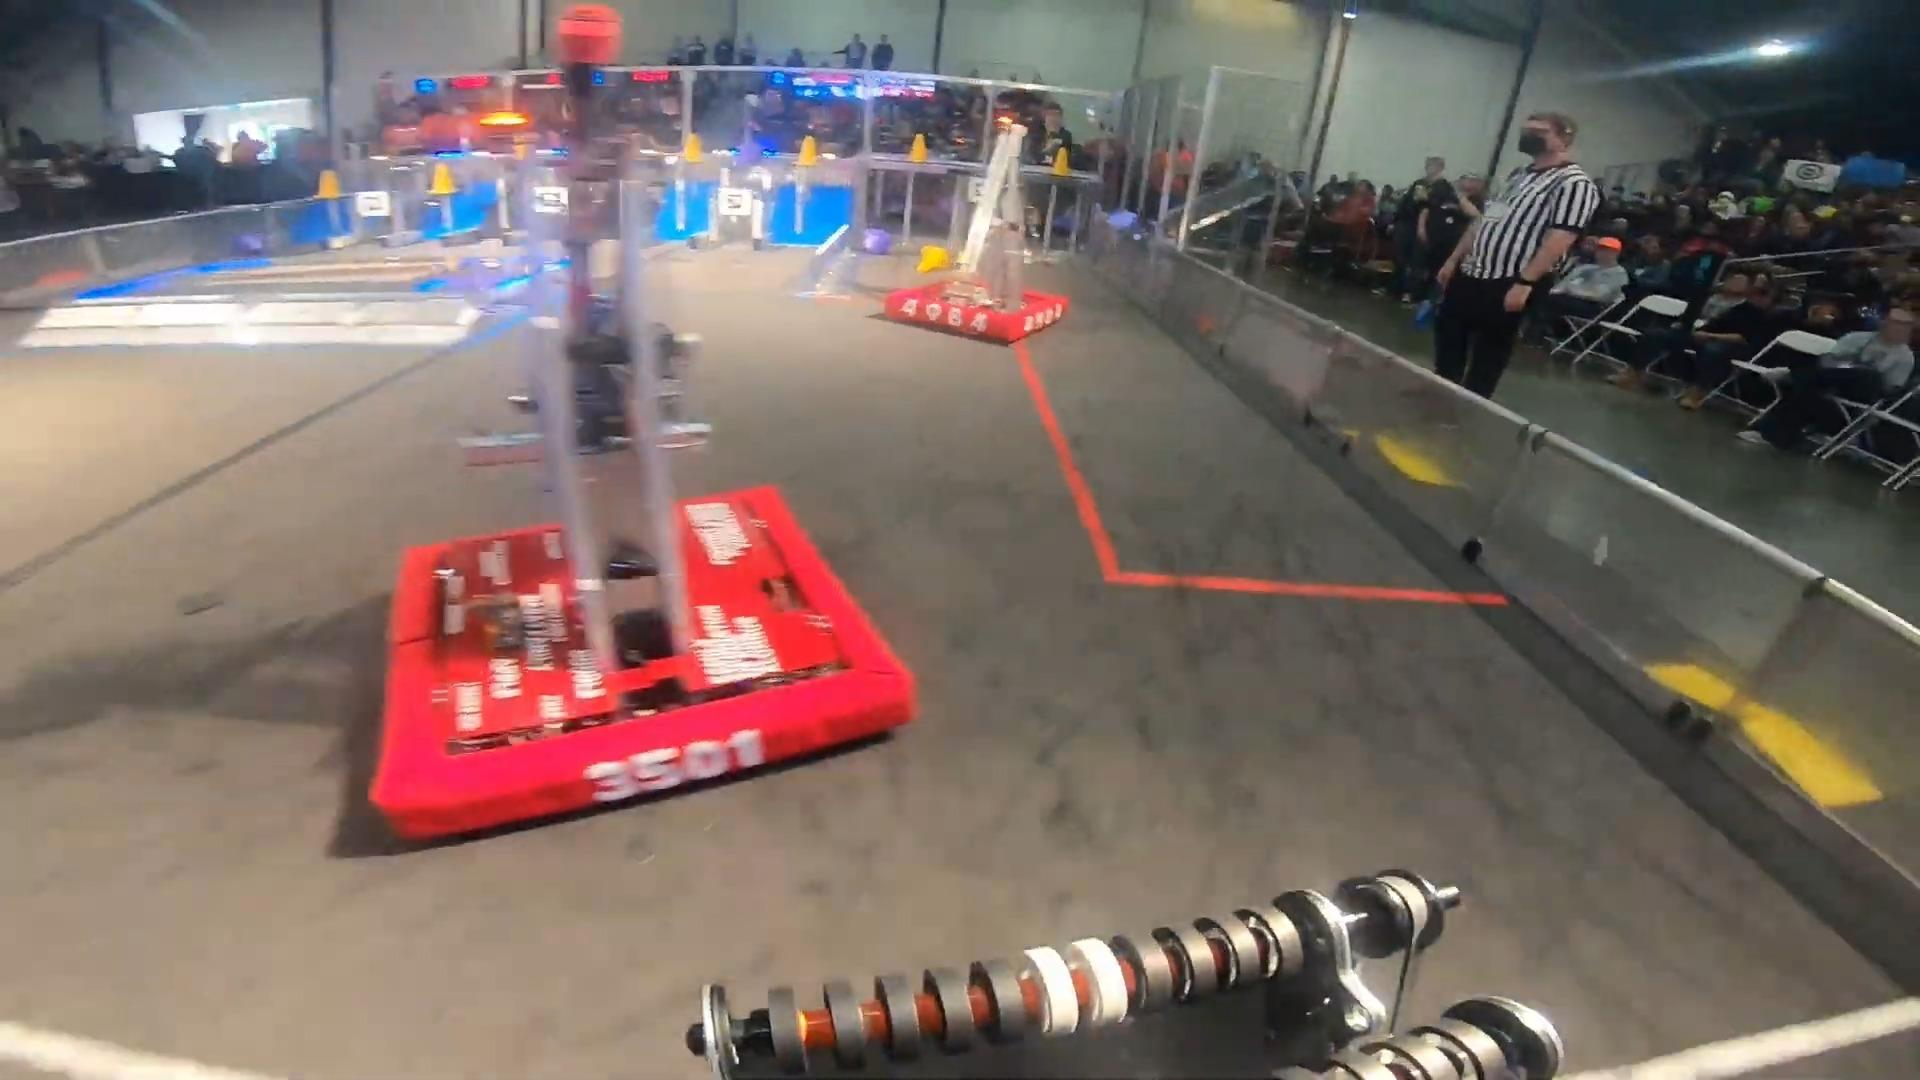robot: (367, 3, 914, 845), (887, 111, 1068, 348)
